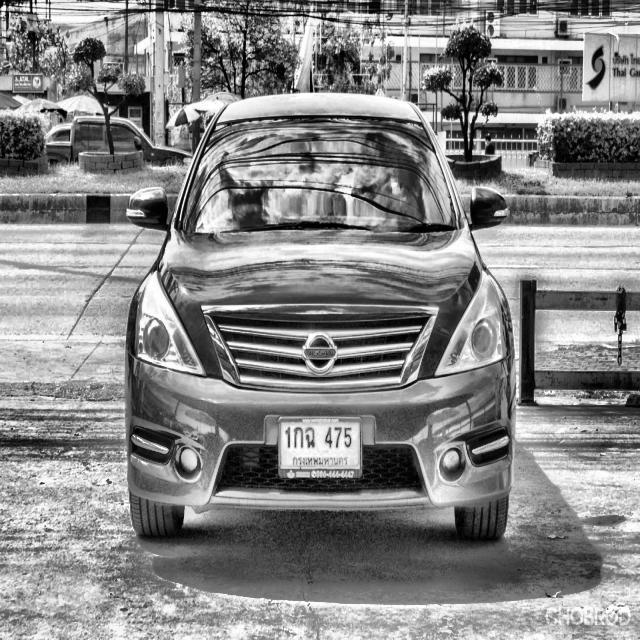license-plate: (273, 412, 366, 482)
